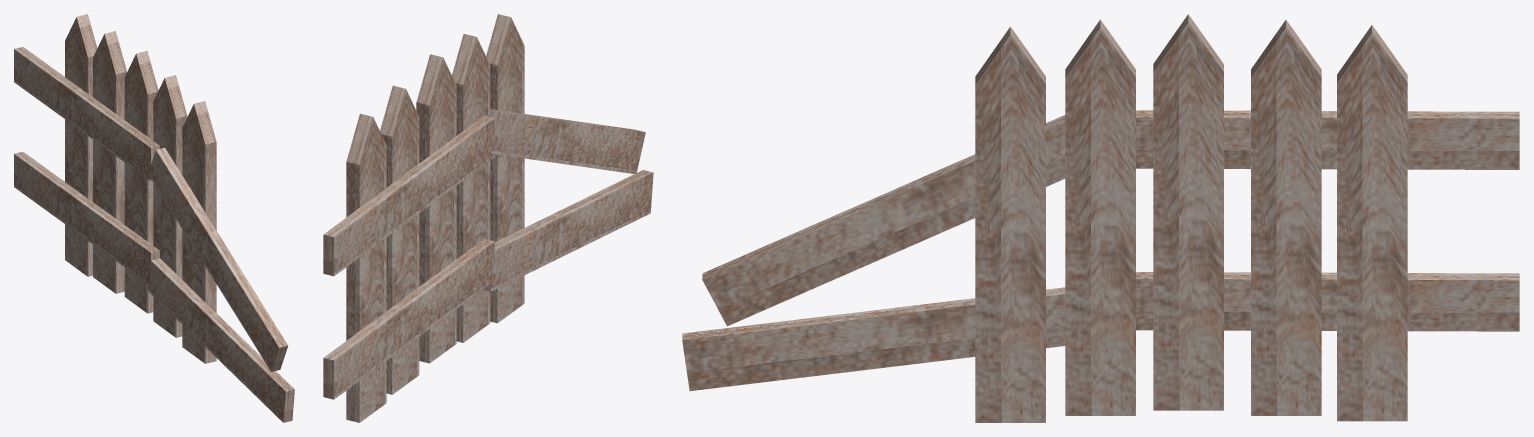
File: brokenfence.fbx
3 views of the same model, side by side, from view 1: azimuth 30°, elevation 25°; view 2: azimuth 150°, elevation 25°; view 3: azimuth 270°, elevation 25° (orthographic). The views are drawn at different scales.
Visible parts, largest first — view 1: Cube.001, Cube.005, Cube.002, Cube.009, Cube.007, Cube.003, Cube.006, Cube.008, Cube.004; view 2: Cube.009, Cube.002, Cube.008, Cube.005, Cube.006, Cube.003, Cube.004, Cube.001, Cube.007; view 3: Cube.008, Cube.006, Cube.007, Cube.004, Cube.003, Cube.005, Cube.001, Cube.009, Cube.002.
Part boxes in pixels (x1,y1,x2,y2): Cube.001: (148,147,288,371); Cube.005: (147,258,294,422); Cube.002: (14,151,159,285); Cube.009: (14,47,159,181); Cube.007: (93,31,126,293); Cube.003: (182,101,216,363); Cube.006: (124,50,158,313); Cube.008: (65,14,97,276); Cube.004: (153,75,187,337); Cube.009: (323,115,494,276); Cube.002: (323,239,494,399); Cube.008: (346,113,386,422); Cube.005: (483,170,653,291); Cube.006: (416,54,456,363); Cube.003: (486,14,524,323); Cube.004: (452,34,490,342); Cube.001: (488,109,645,174); Cube.007: (380,85,419,394); Cube.008: (1337,25,1407,421); Cube.006: (1153,14,1223,410); Cube.007: (1251,19,1321,415); Cube.004: (1065,19,1135,415); Cube.003: (975,26,1045,422); Cube.005: (682,287,1065,391); Cube.001: (702,115,1065,326); Cube.009: (1136,110,1519,169); Cube.002: (1136,272,1519,331).
Size of the model in its own units: 76.19 by 731 by 1386.
